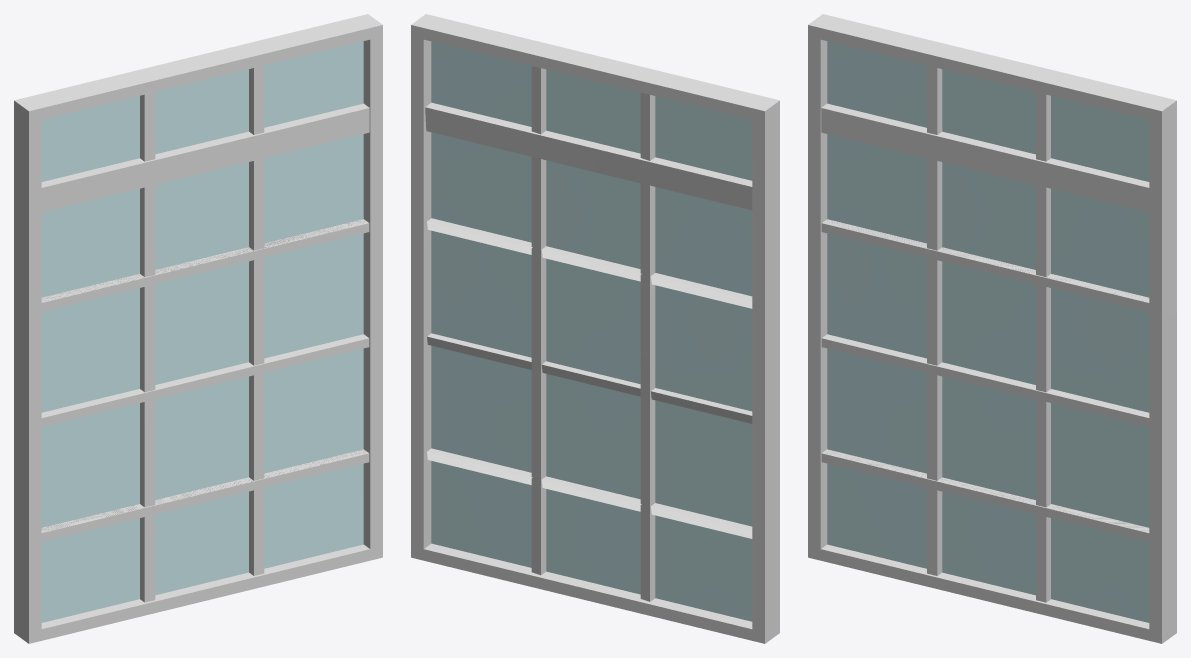
The model's file is window_041.fbx.
The picture shows the model from 3 angles, left to right: view 1: azimuth 30°, elevation 25°; view 2: azimuth 150°, elevation 25°; view 3: azimuth 330°, elevation 25°; orthographic projection.
Parts seen in each view (by area): view 1: window_041; view 2: window_041; view 3: window_041.
Boxes of the visible parts, x1,y1,x2,y2 form: window_041: (14, 14, 382, 643); window_041: (411, 14, 779, 643); window_041: (808, 14, 1176, 643).
Size of the model in its own units: 192 by 13.98 by 276.
